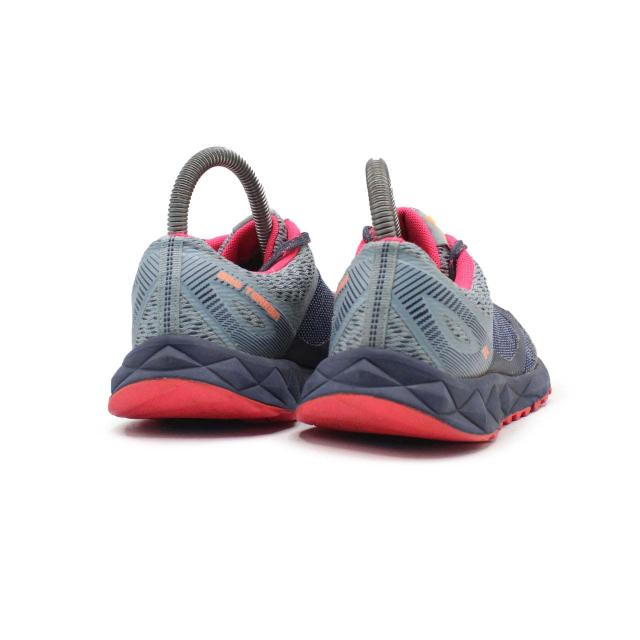heel: (332, 157, 483, 374), (125, 240, 288, 359)
midsole: (301, 351, 551, 436), (112, 332, 306, 420)
